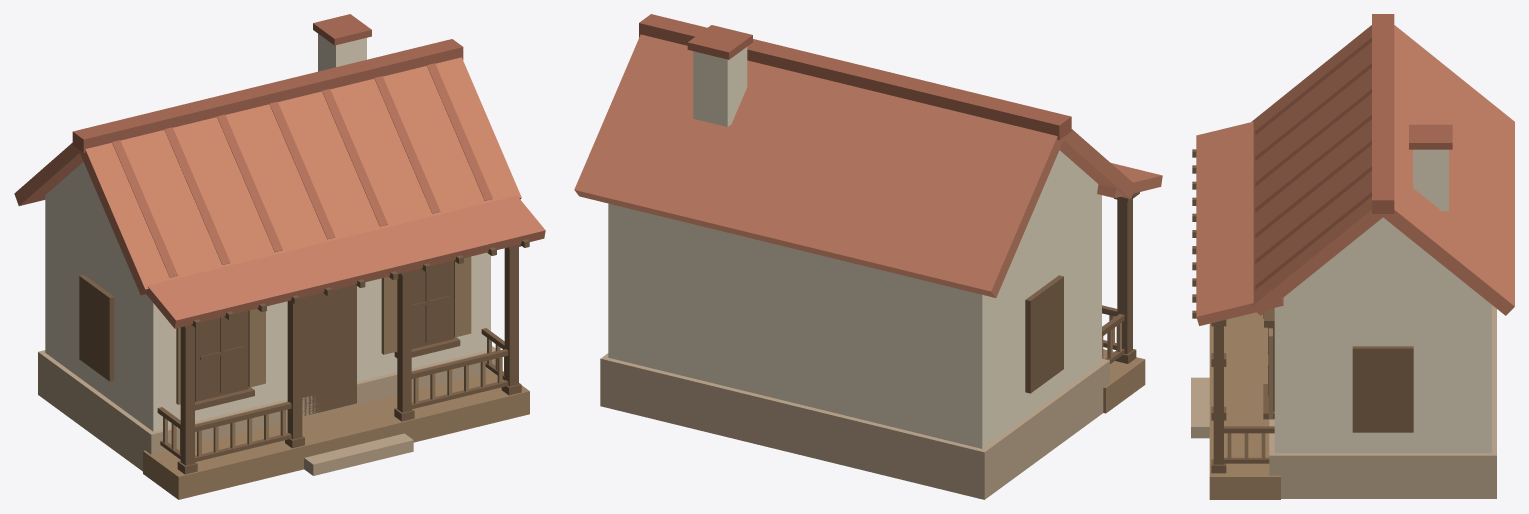
The model's file is OBS_N1_CasaEpoca_01.fbx.
The picture shows the model from 3 angles, left to right: view 1: azimuth 30°, elevation 25°; view 2: azimuth 150°, elevation 25°; view 3: azimuth 270°, elevation 25°; orthographic projection. The views are drawn at different scales.
Visible parts, largest first — view 1: OBS_N1_CasaEpoca_01; view 2: OBS_N1_CasaEpoca_01; view 3: OBS_N1_CasaEpoca_01.
Part boxes in pixels (x1,y1,x2,y2): OBS_N1_CasaEpoca_01: [14, 14, 545, 499]; OBS_N1_CasaEpoca_01: [574, 14, 1162, 499]; OBS_N1_CasaEpoca_01: [1191, 14, 1514, 499].
Size of the model in its own units: 8.32 by 6.83 by 6.11.
